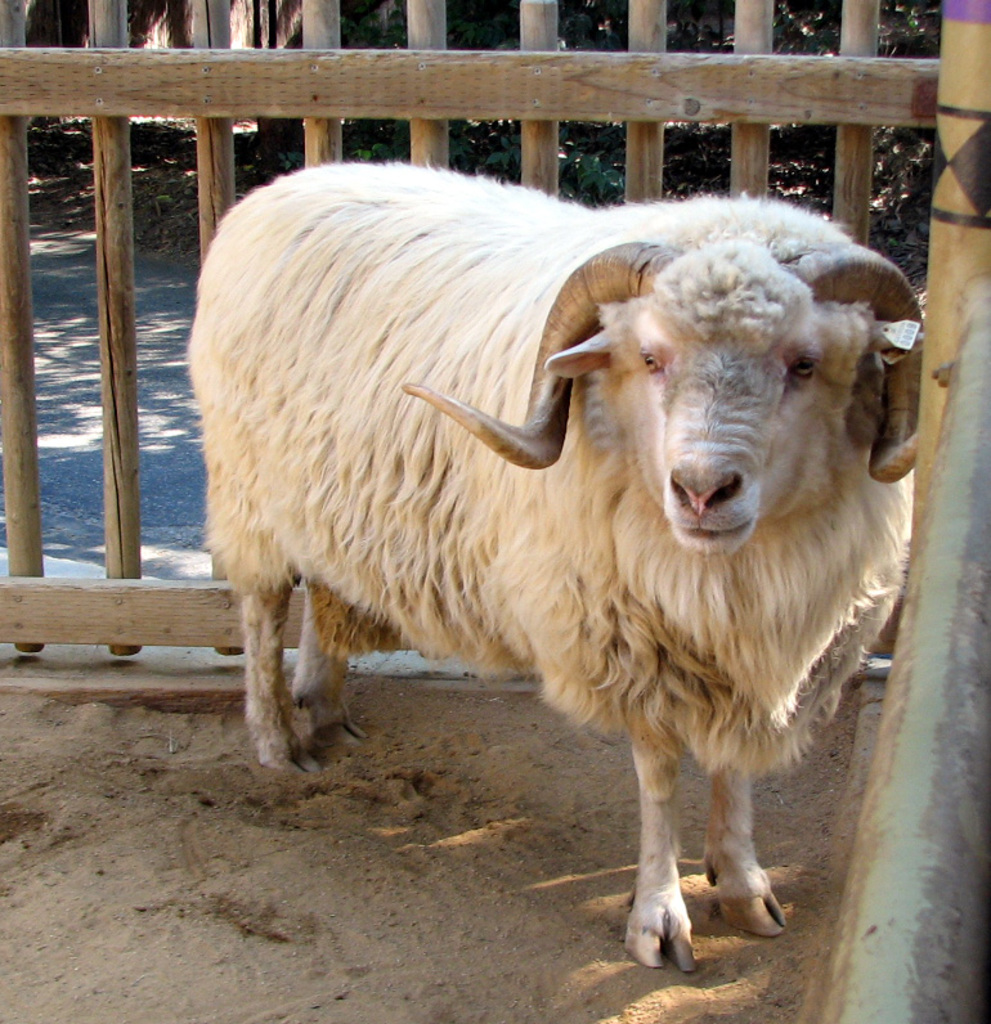sheep: (180, 168, 952, 957)
